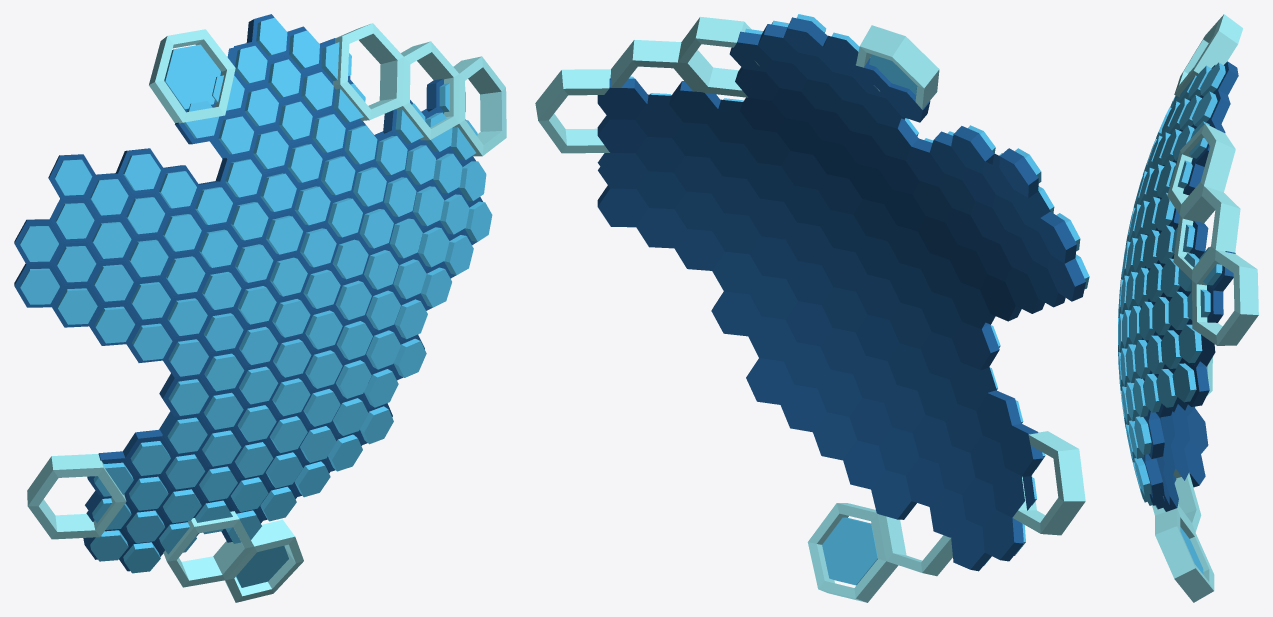
The model's file is escudo_4_racimo.glb.
The picture shows the model from 3 angles, left to right: view 1: azimuth 30°, elevation 25°; view 2: azimuth 150°, elevation 25°; view 3: azimuth 270°, elevation 25°; orthographic projection. The views are drawn at different scales.
Visible parts, largest first — view 1: escudo_4_racimo; view 2: escudo_4_racimo; view 3: escudo_4_racimo.
Boxes of the visible parts, <box> form: escudo_4_racimo: <box>14,14,506,602</box>; escudo_4_racimo: <box>535,14,1089,602</box>; escudo_4_racimo: <box>1118,14,1258,602</box>.
Bounding box in the file's own units: 2.35 × 2.5 × 0.5844.
Materials: 1 (1 with a texture image).
